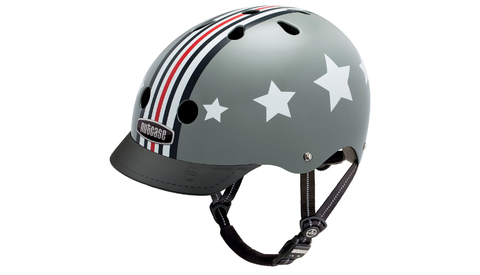with_helmet: (103, 2, 388, 269)
